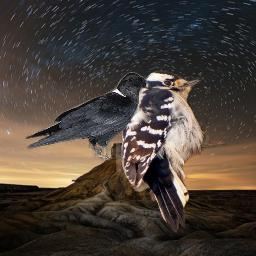Crow: (22, 72, 151, 164)
Woodpecker: (116, 68, 226, 233)
